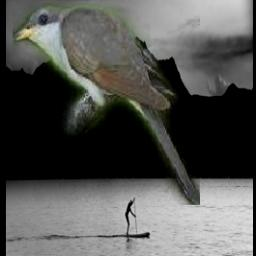Cuckoo: (13, 4, 200, 206)
